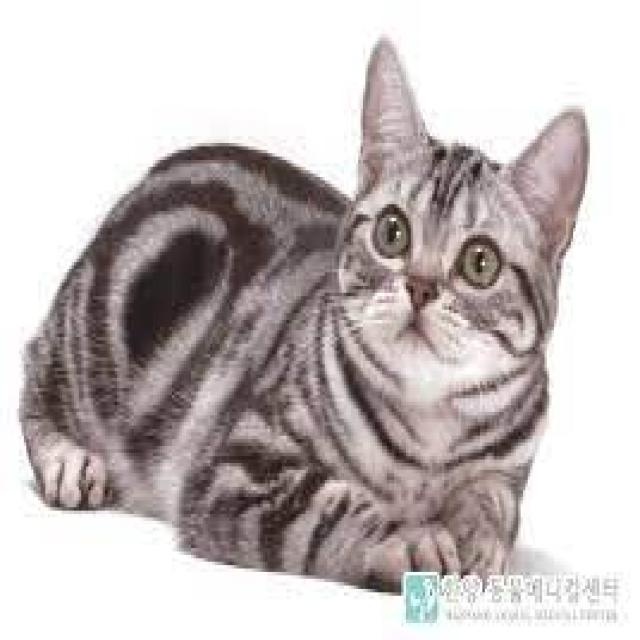cat-face: (319, 68, 588, 428)
